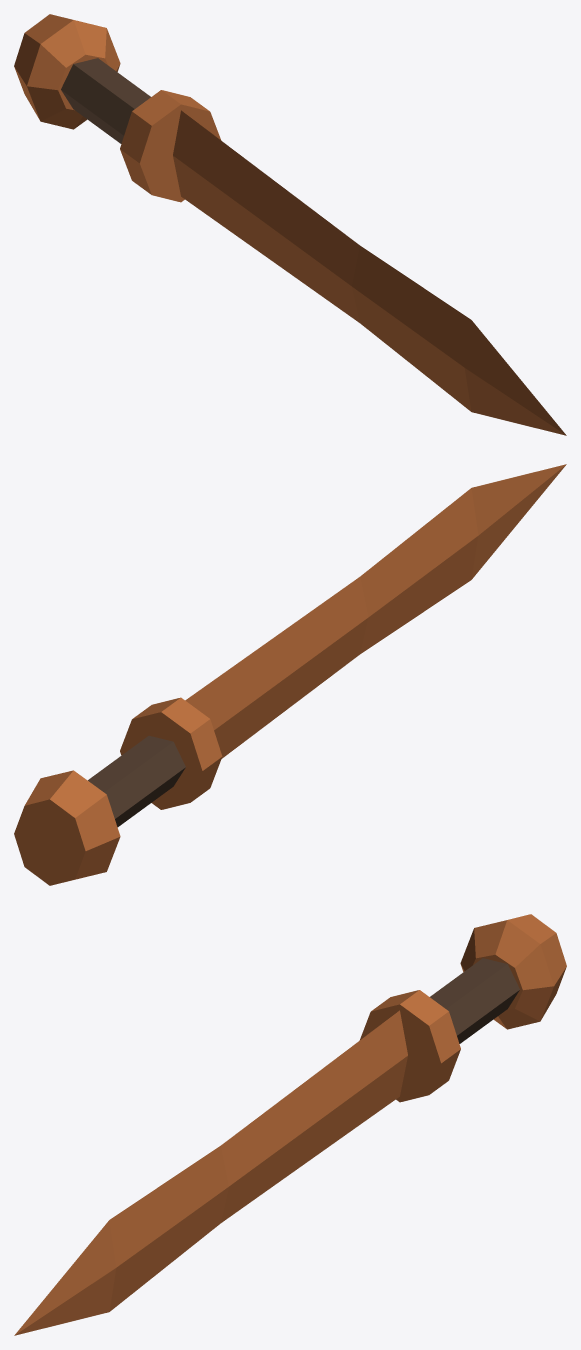
The model's file is Sword.fbx.
3 renders of one model, top to bottom at view 1: azimuth 30°, elevation 25°; view 2: azimuth 150°, elevation 25°; view 3: azimuth 330°, elevation 25°, orthographic.
Visible parts, largest first — view 1: Sword; view 2: Sword; view 3: Sword.
Boxes of the visible parts, x1,y1,x2,y2 form: Sword: [14, 14, 566, 435]; Sword: [14, 464, 566, 885]; Sword: [14, 914, 566, 1335].
Size of the model in its own units: 0.068 by 0.076 by 0.65.
